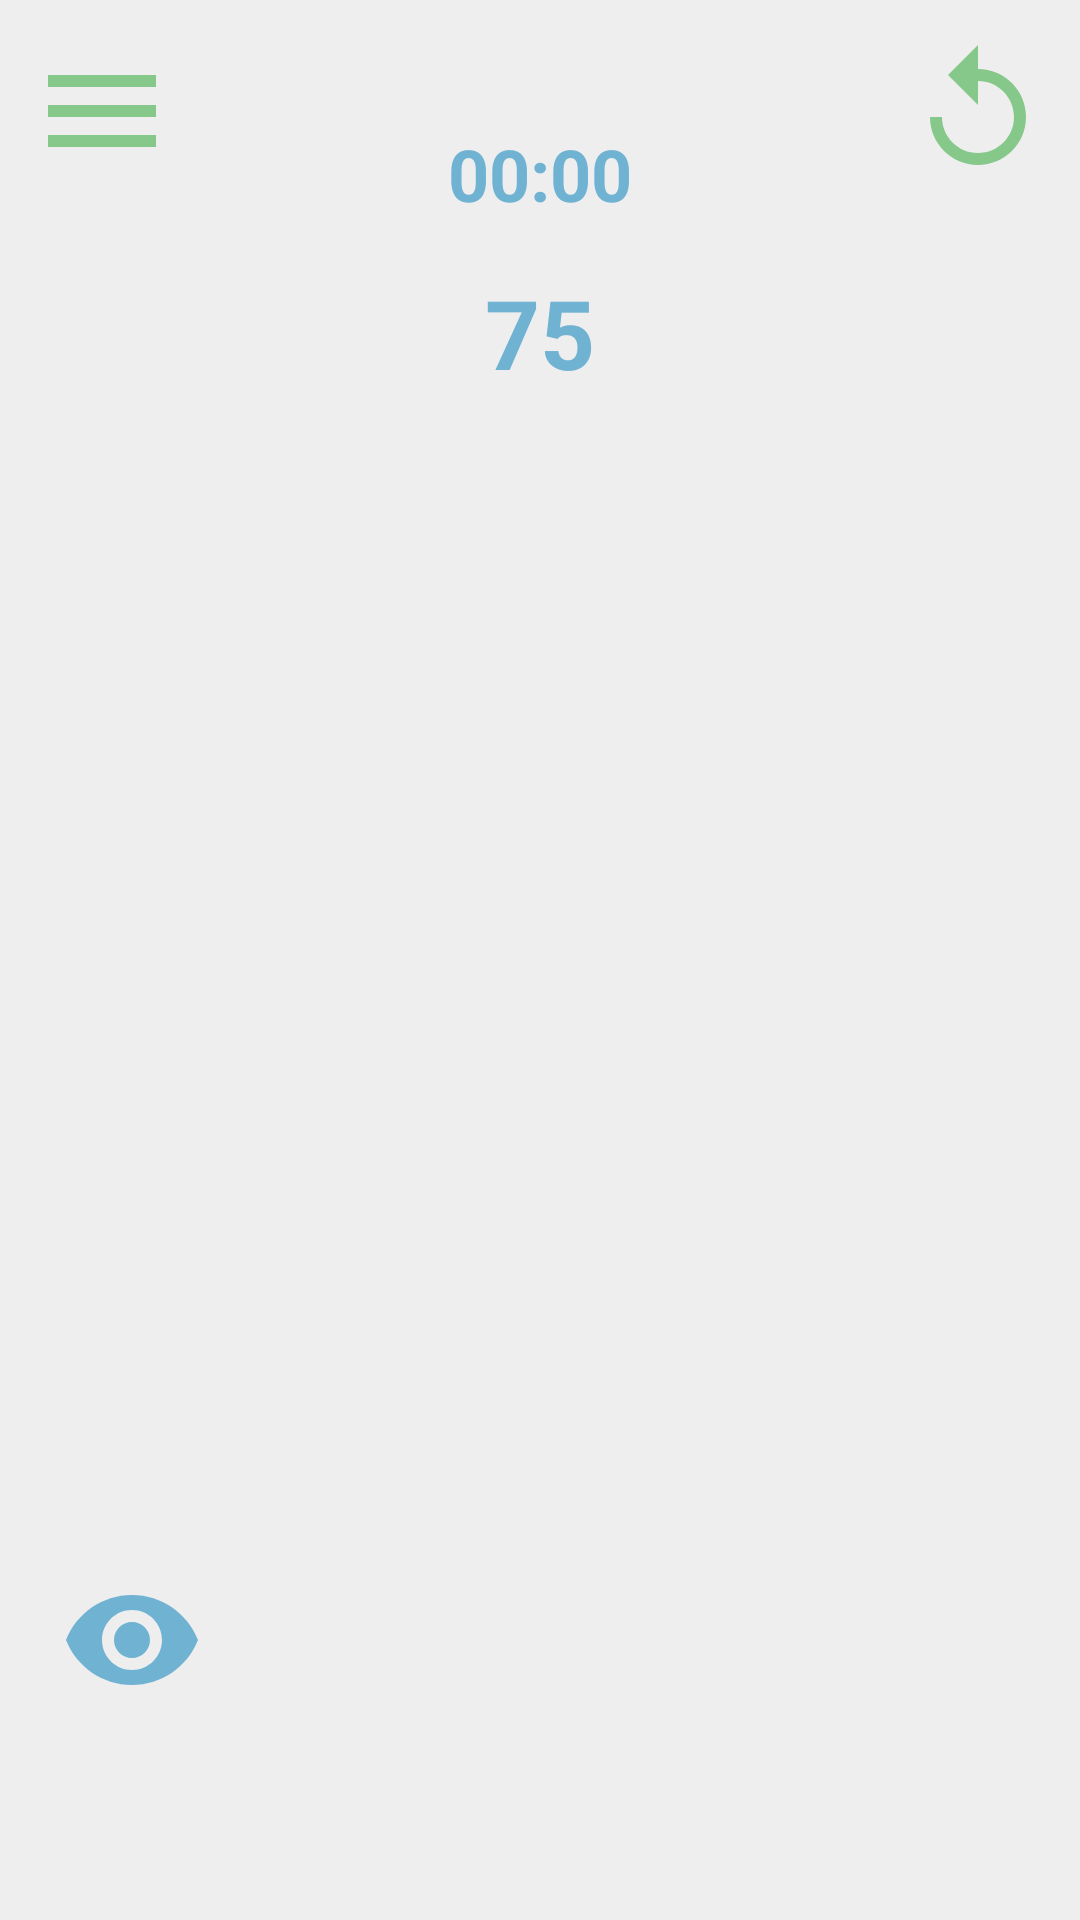

Named icons in this screenshot (1080 × 1920) and their bounding boxes, (x1, y1, x2, y2):
menu: (48, 75, 156, 147)
replay: (930, 45, 1026, 165)
show: (66, 1595, 198, 1685)
